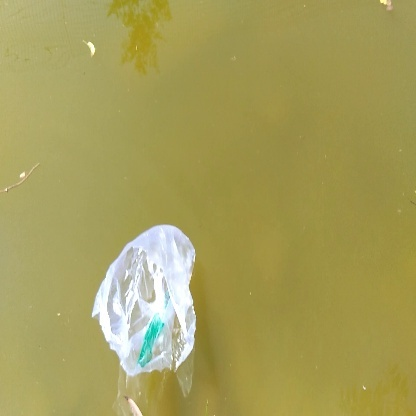plastic-bag: (89, 214, 202, 378)
